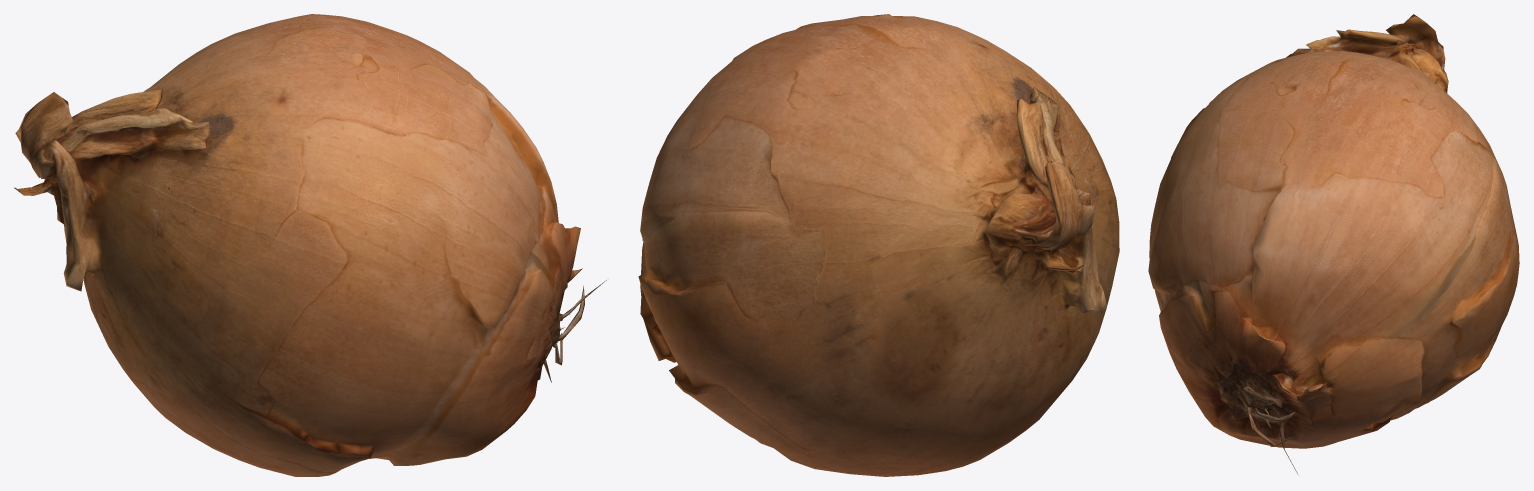
The model's file is Onion.gltf.
3 renders of one model, left to right at view 1: azimuth 30°, elevation 25°; view 2: azimuth 150°, elevation 25°; view 3: azimuth 270°, elevation 25°, orthographic. The views are drawn at different scales.
Parts seen in each view (by area): view 1: node_Onion_-245882; view 2: node_Onion_-245882; view 3: node_Onion_-245882.
Boxes of the visible parts, x1,y1,x2,y2 form: node_Onion_-245882: [14, 14, 606, 476]; node_Onion_-245882: [638, 14, 1119, 476]; node_Onion_-245882: [1148, 14, 1519, 475].
Size of the model in its own units: 0.0444 by 0.0359 by 0.0343.
Materials: 1 (1 with a texture image).
